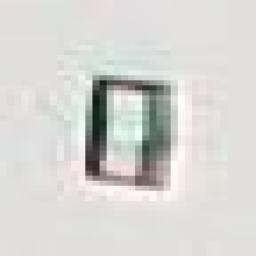crystals: (80, 75, 176, 201)
